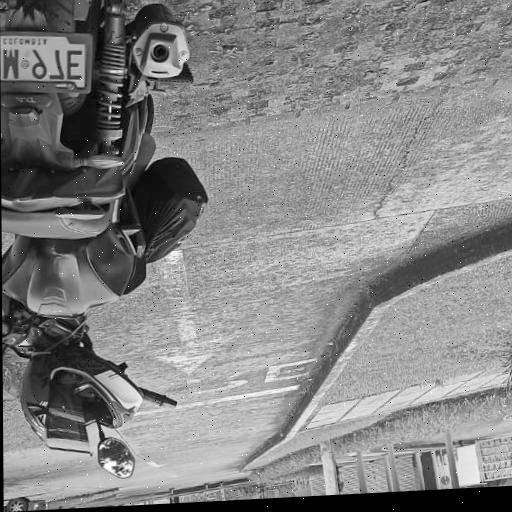placa: (0, 31, 93, 94)
